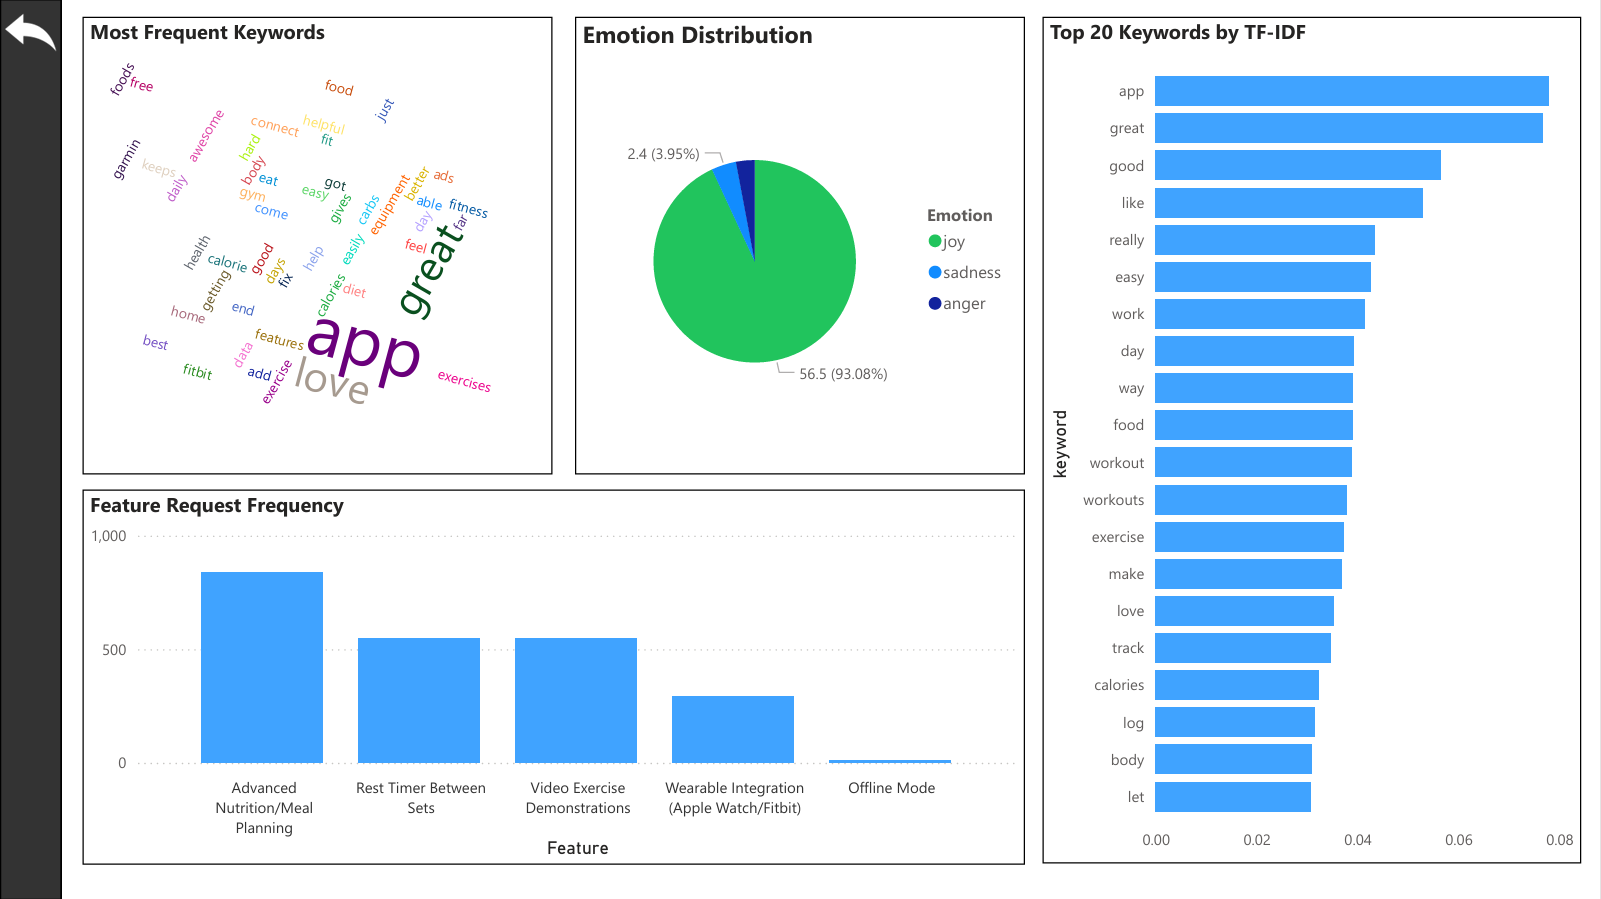

This screenshot's page, from the dashboard's own definition file:
{"tool":"powerbi","page":{"name":"Topic & Keywords Analysis","canvas":[1280,720],"ordinal":3},"visuals":[{"type":"WordCloud1447959067750","title":"Most Frequent Keywords","fields":{"Category":["tfidf_keywords.keyword"],"Values":["Count(tfidf_keywords.tfidf_score)"]},"box":[65.9,14.4,376.3,365.5],"z":0},{"type":"clusteredBarChart","title":"Top 20 Keywords by TF-IDF","fields":{"Category":["tfidf_keywords.keyword"],"Y":["Sum(tfidf_keywords.tfidf_score)"]},"box":[834.2,14.4,431.5,677.2],"z":1000},{"type":"clusteredColumnChart","title":"Feature Request Frequency","fields":{"Y":["Sum(top5_features.Est_Mentions)"],"Category":["top5_features.Feature"]},"box":[65.9,391.9,753.9,299.6],"z":2000},{"type":"pieChart","title":"Emotion Distribution","fields":{"Y":["Sum(emotion_analysis.Percentage of Reviews)"],"Category":["emotion_analysis.Emotion"]},"box":[460.2,14.4,359.6,365.5],"z":3000},{"type":"shape","box":[0,0,49.1,720.3],"z":4000},{"type":"image","box":[0,0,49.1,52.7],"z":5000}]}

Visuals, with their boxes in screenshot pixels (x1, y1, x2, y2), scaled from the page's 1280x720 canvas onto the 1601x899 screenshot:
"Most Frequent Keywords" WordCloud1447959067750: (x1=82, y1=18, x2=553, y2=474)
"Top 20 Keywords by TF-IDF" clusteredBarChart: (x1=1043, y1=18, x2=1583, y2=864)
"Feature Request Frequency" clusteredColumnChart: (x1=82, y1=489, x2=1025, y2=863)
"Emotion Distribution" pieChart: (x1=576, y1=18, x2=1025, y2=474)
shape: (x1=0, y1=0, x2=61, y2=898)
image: (x1=0, y1=0, x2=61, y2=66)
